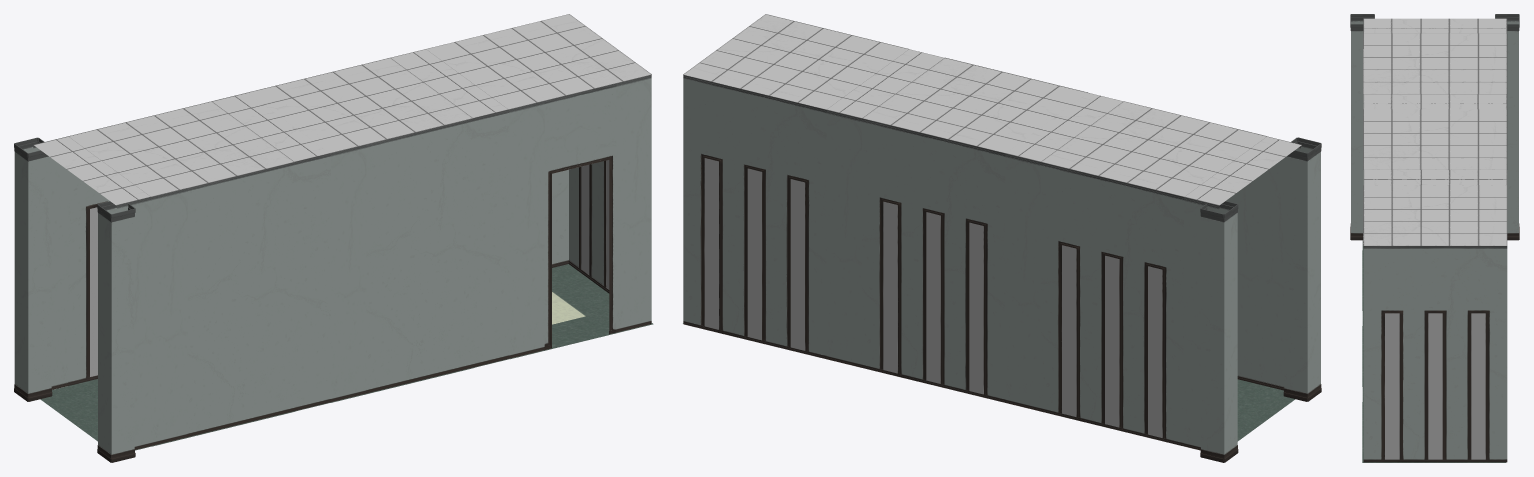
Rendered from modular_corridor_assignment_mstrzelecka.glb.
3 views of the same model, side by side, from view 1: azimuth 30°, elevation 25°; view 2: azimuth 150°, elevation 25°; view 3: azimuth 270°, elevation 25° (orthographic). The views are drawn at different scales.
Parts seen in each view (by area): view 1: wall_12x20_02, wall_12x20_01, ceiling_12x13_03, ceiling_12x13_01, ceiling_12x13_02, pillar_2x20_02, pillar_2x20_01, wall_3x20_05, wall_3x20_07, wall_3x20_06, wall_3x20_09, doorWall_6x20_01 (+10 smaller); view 2: windowWall_12x20_02, windowWall_12x20_03, windowWall_12x20_04, ceiling_12x13_01, ceiling_12x13_03, ceiling_12x13_02, pillar_2x20_01, pillar_2x20_02, wall_3x20_03, wall_3x20_04, wall_3x20_09, wall_3x20_08 (+5 smaller); view 3: windowWall_12x20_05, ceiling_12x13_03, ceiling_12x13_01, ceiling_12x13_02, pillar_2x20_01, pillar_2x20_02, ceiling_3x13_02, ceiling_3x13_03, ceiling_3x13_01, floor_12x12_04.
Part boxes in pixels (box(x1,y1,x2,y2)): wall_12x20_02: box(365, 109, 509, 393); wall_12x20_01: box(187, 153, 330, 437); ceiling_12x13_03: box(68, 101, 294, 196); ceiling_12x13_01: box(426, 14, 651, 109); ceiling_12x13_02: box(247, 58, 472, 153); pillar_2x20_02: box(14, 137, 52, 401); pillar_2x20_01: box(97, 201, 135, 462); wall_3x20_05: box(616, 74, 651, 332); wall_3x20_07: box(330, 144, 366, 401); wall_3x20_06: box(509, 100, 544, 358); wall_3x20_09: box(151, 188, 187, 445); doorWall_6x20_01: box(544, 83, 616, 349); windowWall_12x20_02: box(1040, 162, 1184, 446); windowWall_12x20_03: box(862, 118, 1005, 402); windowWall_12x20_04: box(683, 75, 826, 359); ceiling_12x13_01: box(683, 14, 908, 109); ceiling_12x13_03: box(1041, 101, 1266, 196); ceiling_12x13_02: box(862, 57, 1087, 153); pillar_2x20_01: box(1283, 137, 1321, 401); pillar_2x20_02: box(1200, 201, 1238, 462); wall_3x20_03: box(1005, 153, 1040, 411); wall_3x20_04: box(826, 110, 862, 367); wall_3x20_09: box(1230, 128, 1265, 385); wall_3x20_08: box(1265, 137, 1300, 390); windowWall_12x20_05: box(1363, 246, 1507, 462); ceiling_12x13_03: box(1363, 33, 1506, 94); ceiling_12x13_01: box(1363, 185, 1507, 245); ceiling_12x13_02: box(1363, 109, 1506, 169); pillar_2x20_01: box(1350, 14, 1374, 240); pillar_2x20_02: box(1495, 14, 1519, 240); ceiling_3x13_02: box(1363, 94, 1506, 109); ceiling_3x13_03: box(1363, 18, 1506, 33); ceiling_3x13_01: box(1363, 170, 1507, 184); floor_12x12_04: box(1362, 402, 1506, 462).
Bounding box in the file's own units: 4.59 × 1.99 × 1.41.
Materials: 2 (1 with a texture image).
